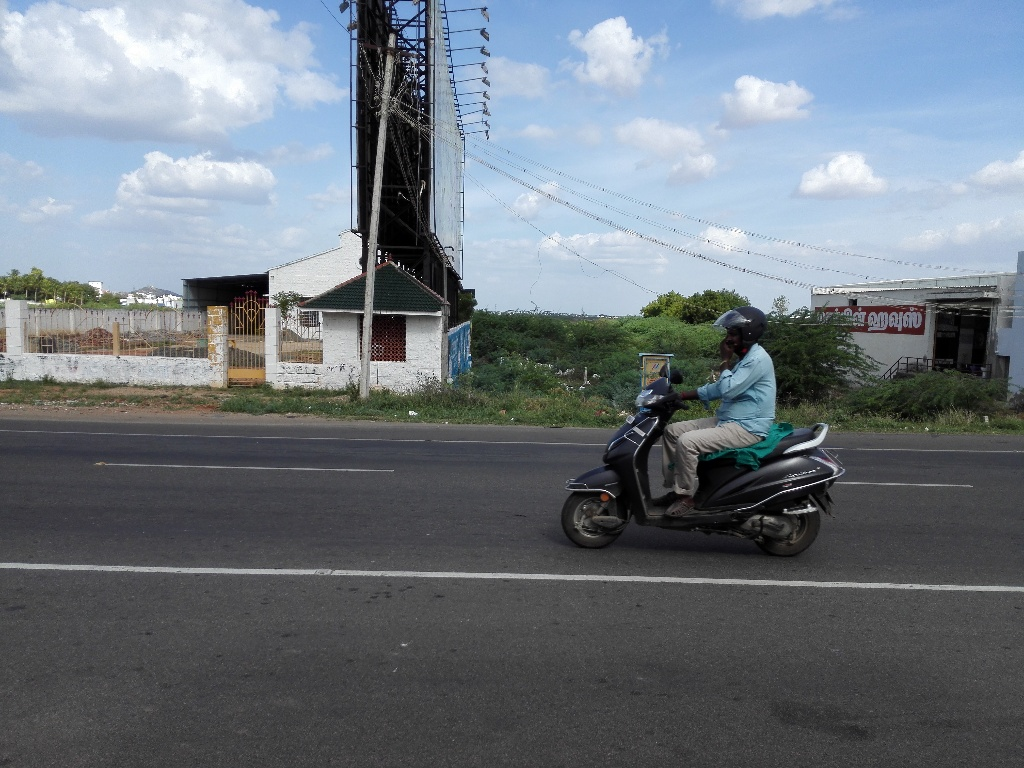biker: (545, 279, 872, 571)
helmet: (705, 292, 775, 376)
